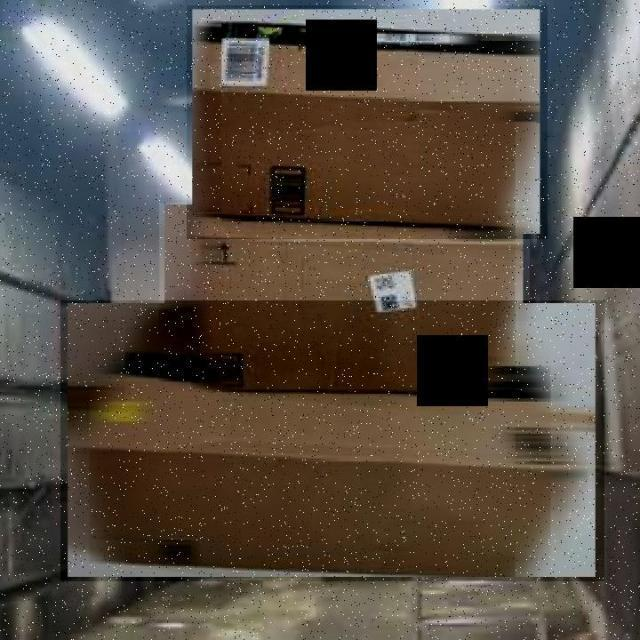box: (61, 300, 604, 582), (187, 5, 548, 239), (160, 202, 530, 418)
